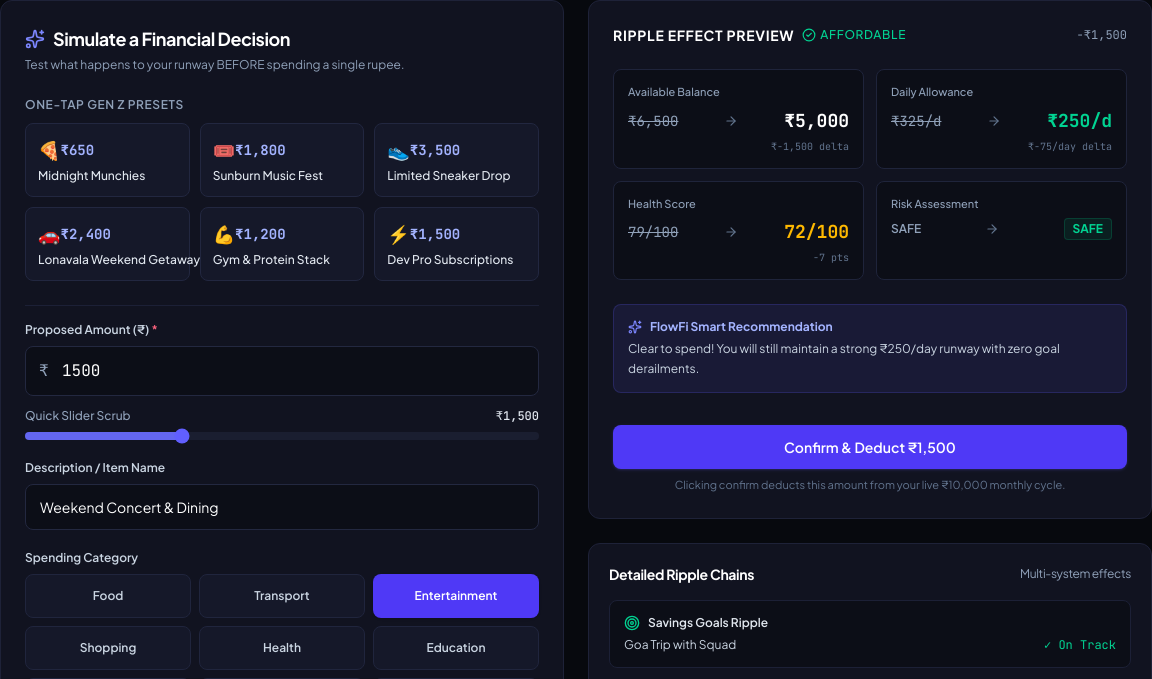
Test: Decision Simulator › shows warning for large amounts
Replace the text in the number field labelled "Proposed Amount (₹) *" with "9000" at (282, 371), box [25, 346, 539, 396]
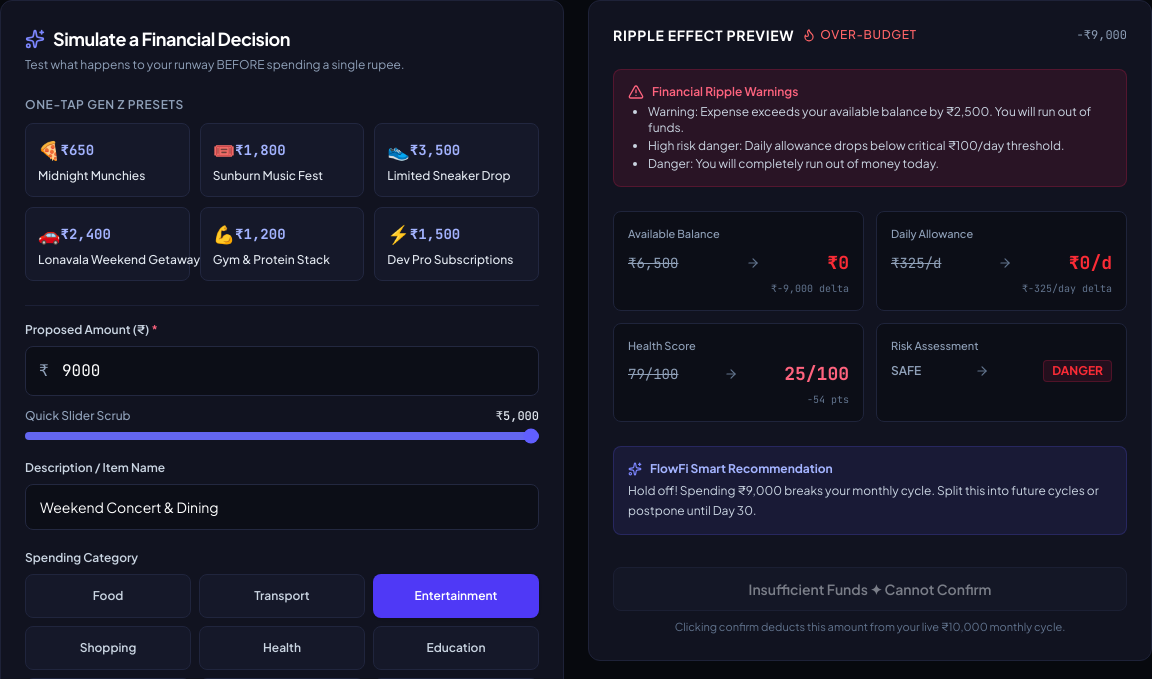
Expected: the message is shown, [613, 69, 1127, 187]
